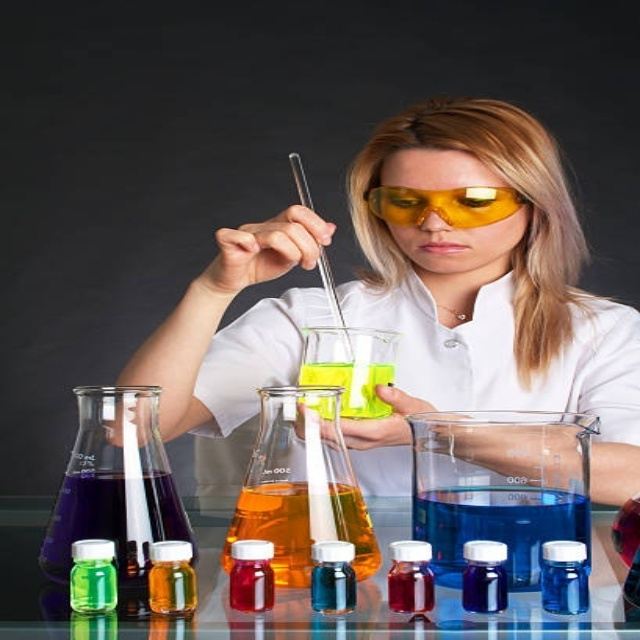Gafas: (365, 185, 531, 228)
Sin_guantes: (196, 202, 343, 295), (293, 382, 432, 452)
Sin_mascara: (408, 236, 477, 272)
